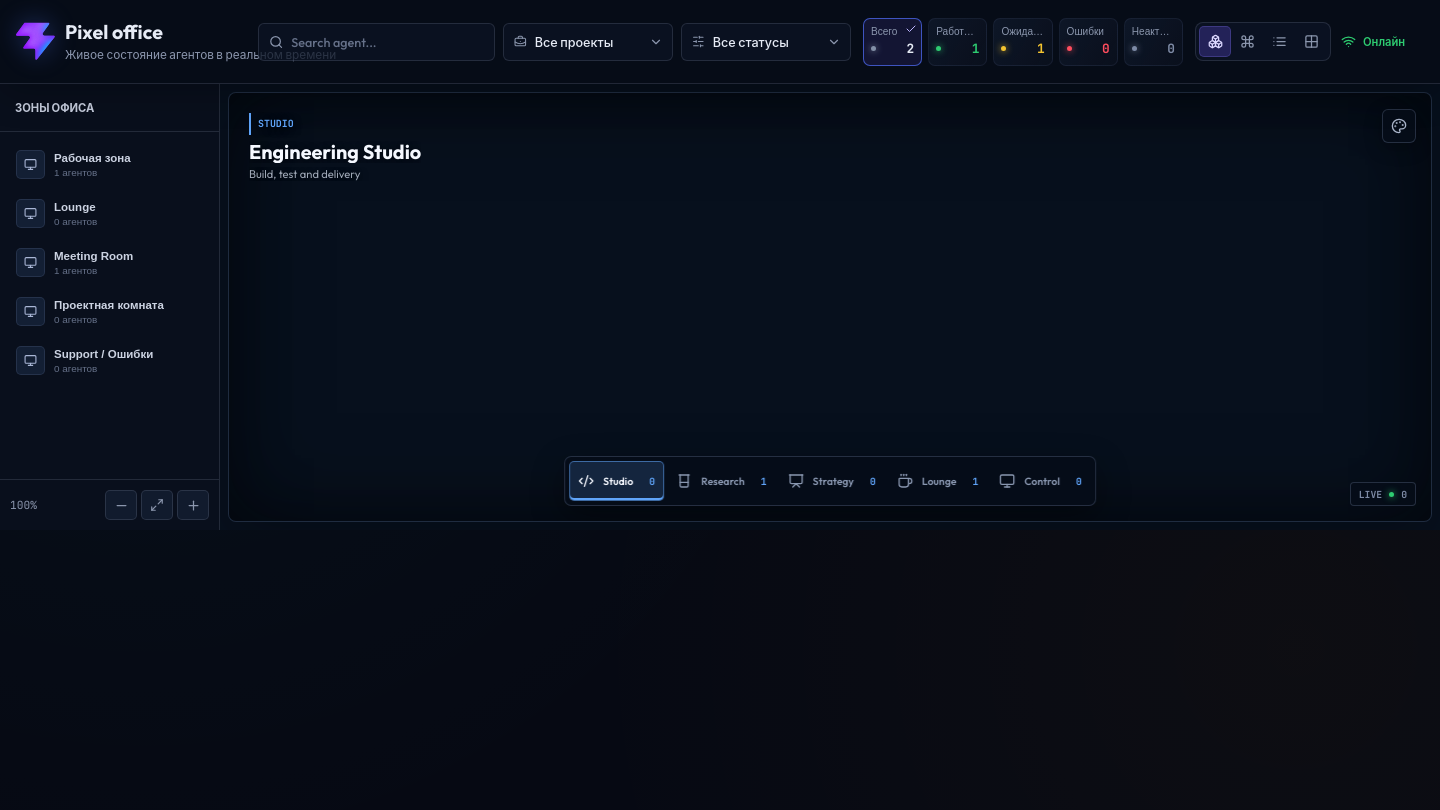
it: OfficeTab interactions › filters agents, opens the inspector, and restores it with keyboard controls
Expected: the picture named "Isometric office:" is shown, [229,93,1431,521]
Type "Data Analyst" into the field labelled "Search agent..." at (388, 42), box [291,34,484,50]
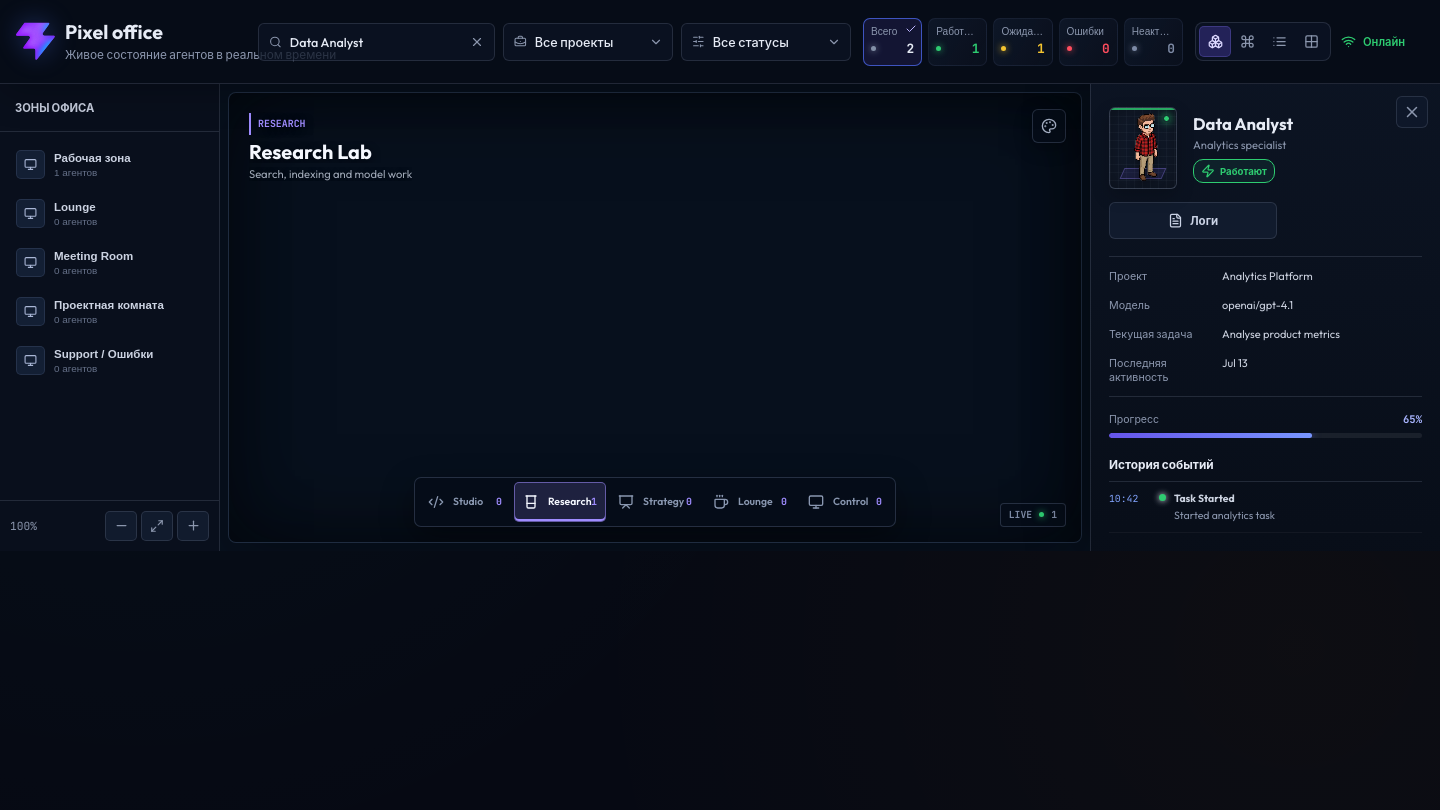
Now the dialog "Data Analyst" is shown, box [1090,84,1439,551]
Press Escape
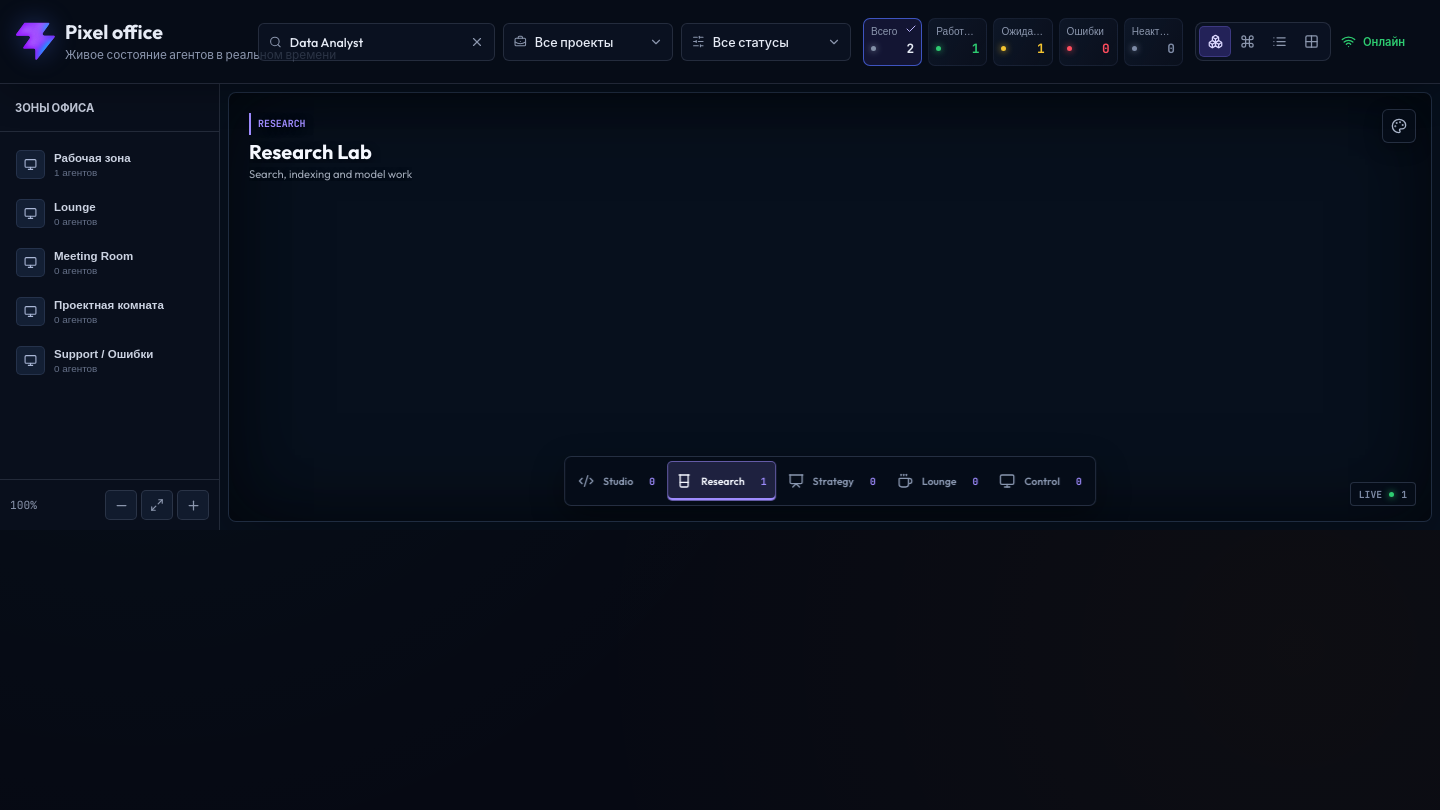
Now the dialog is gone
